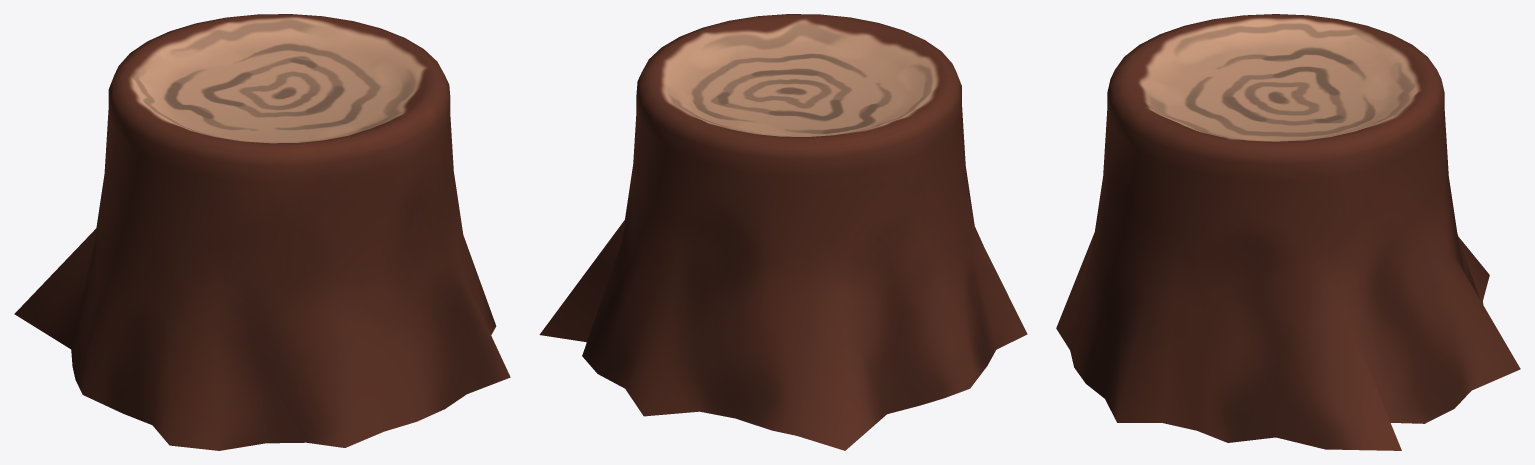
The model's file is trunk.fbx.
3 views of the same model, side by side, from view 1: azimuth 30°, elevation 25°; view 2: azimuth 150°, elevation 25°; view 3: azimuth 270°, elevation 25° (orthographic). The views are drawn at different scales.
Visible parts, largest first — view 1: trunk; view 2: trunk; view 3: trunk.
Boxes of the visible parts, x1,y1,x2,y2 form: trunk: (14, 14, 510, 450); trunk: (539, 14, 1027, 450); trunk: (1056, 14, 1520, 450).
Bounding box in the file's own units: 13.82 × 9.14 × 14.21.
